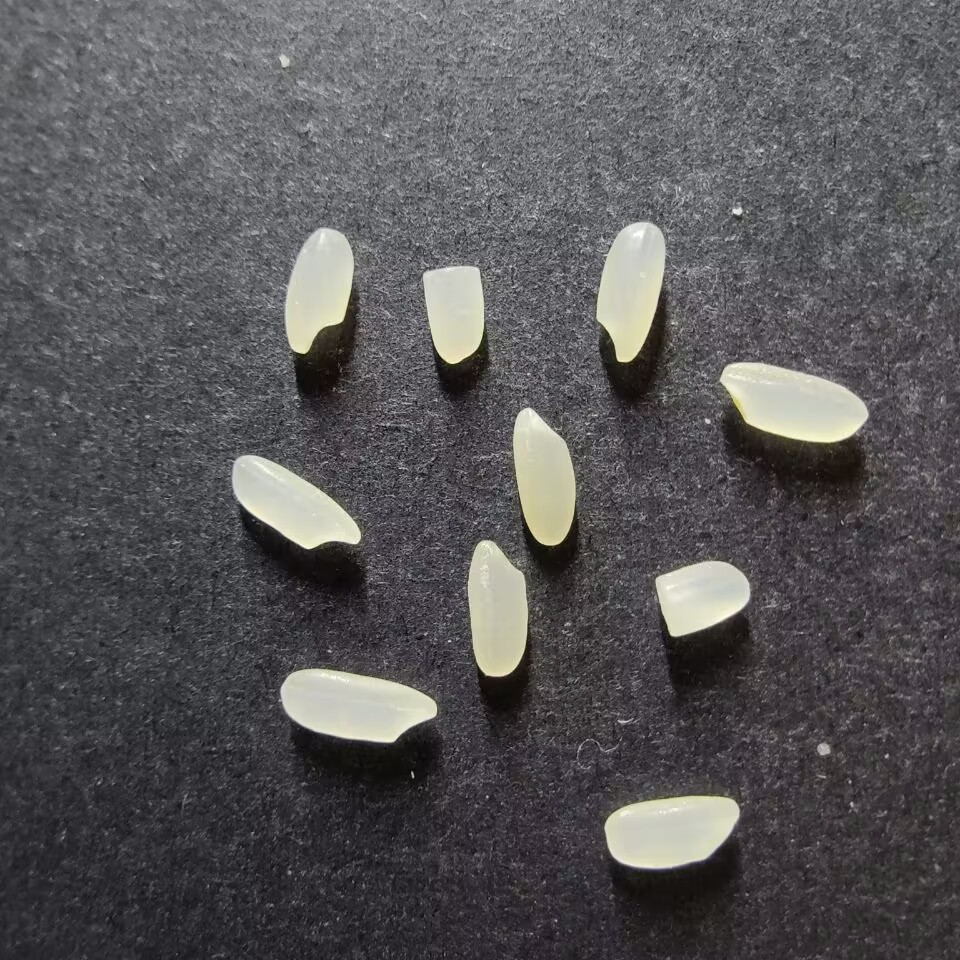broken: (654, 560, 750, 636), (421, 265, 484, 363)
rice: (231, 454, 361, 549), (719, 361, 868, 443), (280, 668, 437, 743), (594, 222, 666, 362), (603, 795, 739, 869), (512, 407, 576, 546), (284, 227, 353, 354), (466, 539, 528, 676)
